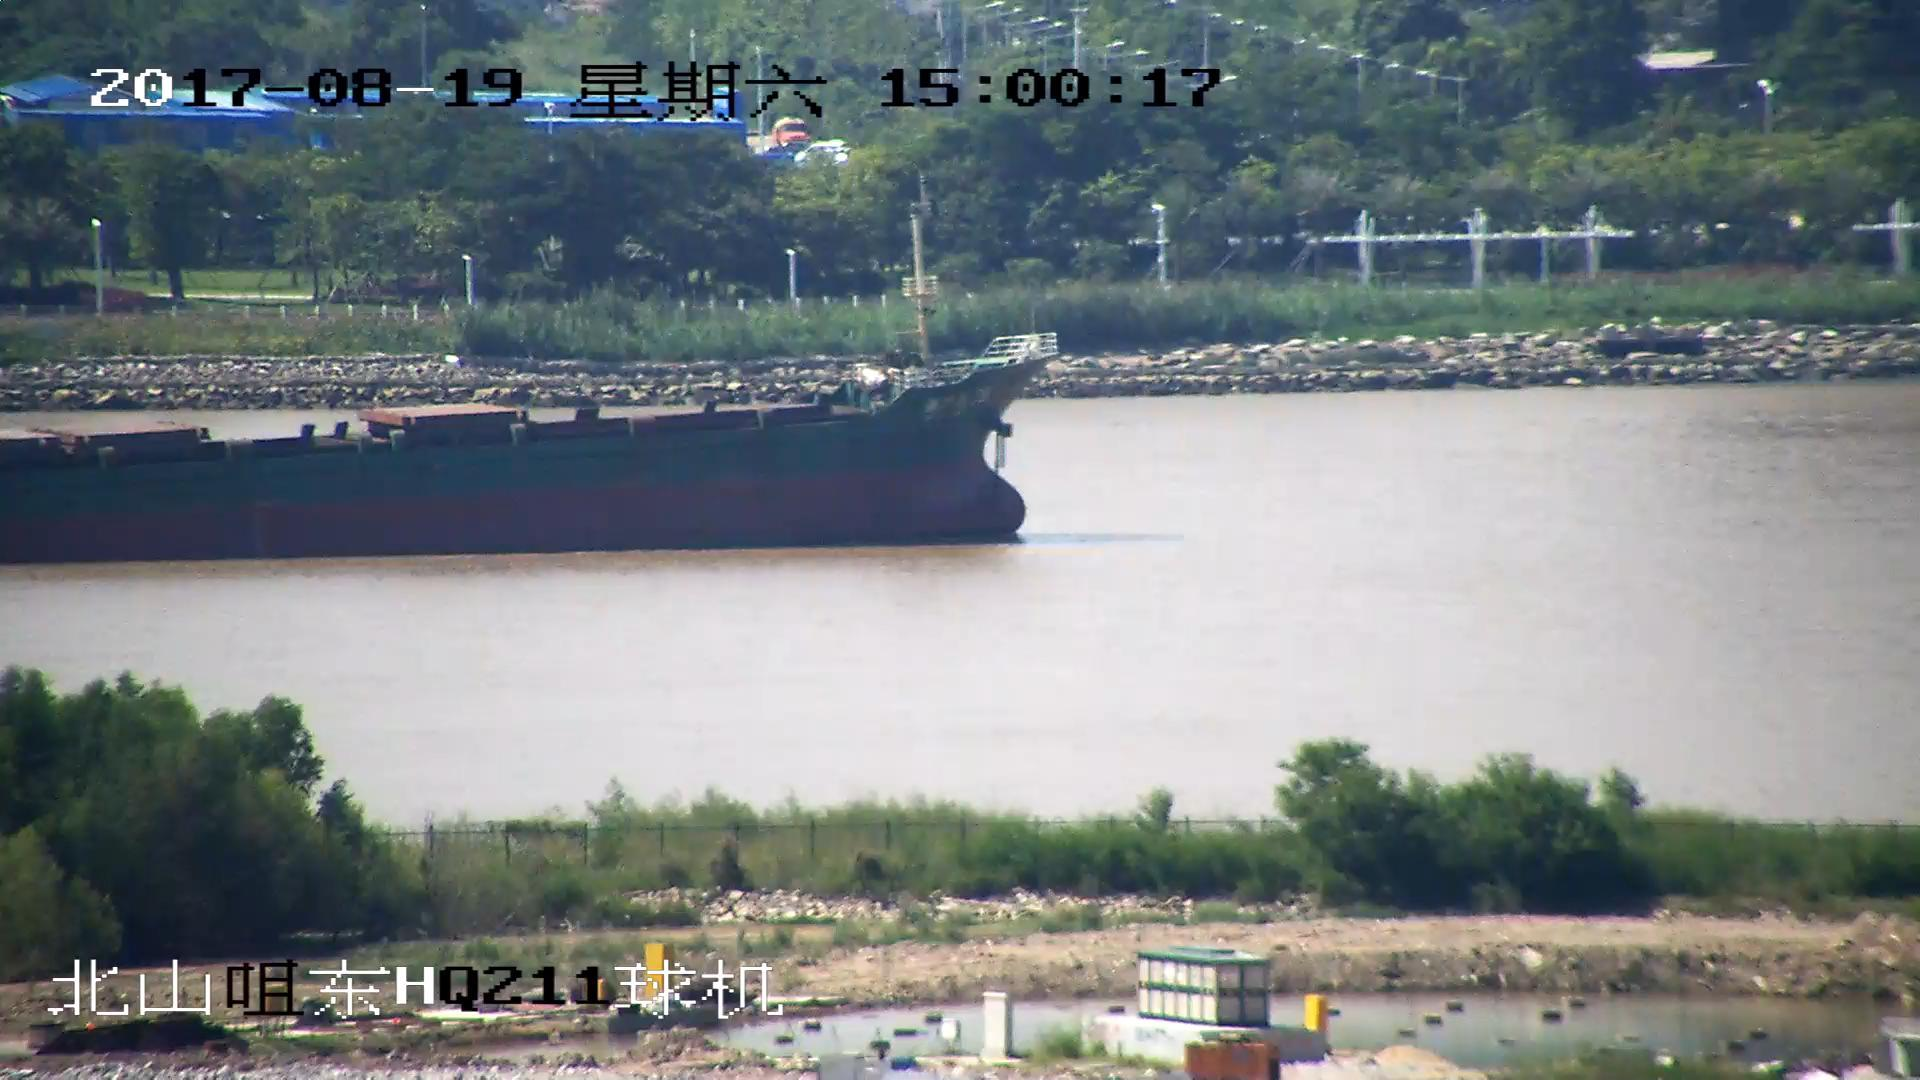Ship: (3, 342, 1050, 559)
